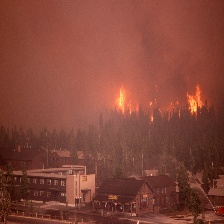fire: (105, 81, 214, 114)
smoke: (125, 21, 177, 85)
